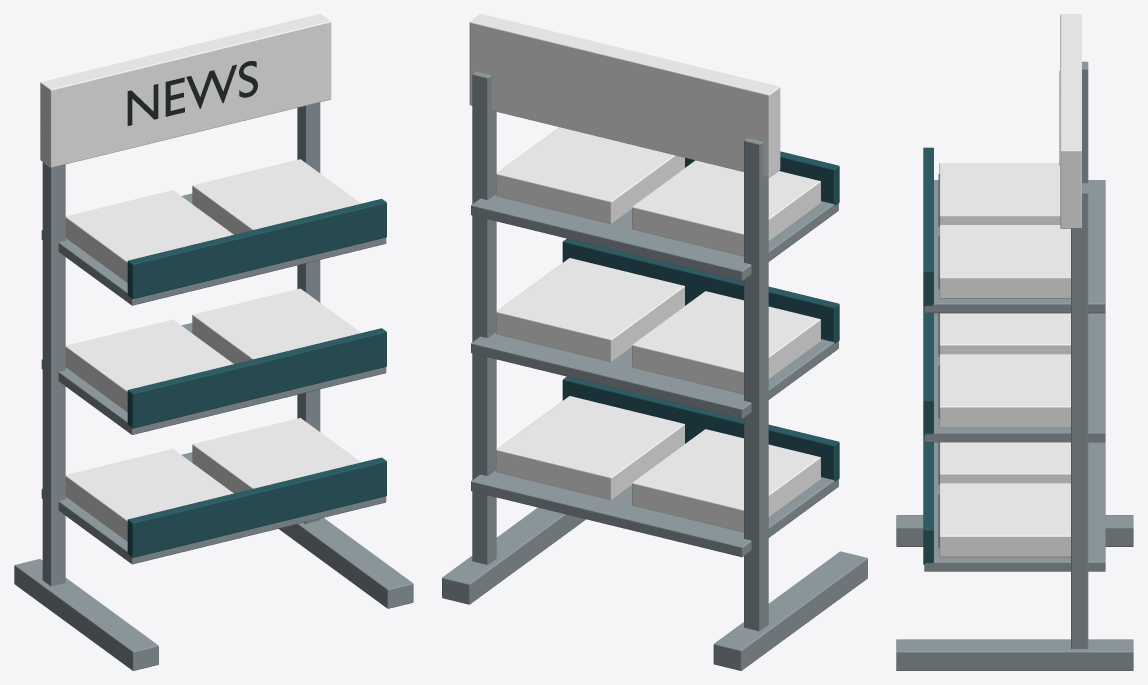
Rendered from local-newspaper-stand.glb.
3 renders of one model, left to right at view 1: azimuth 30°, elevation 25°; view 2: azimuth 150°, elevation 25°; view 3: azimuth 270°, elevation 25°, orthographic. The views are drawn at different scales.
Visible parts, largest first — view 1: Masthead, Front_Stop.001, Front_Stop, Front_Stop.002, Side_Post, Newspaper_Stack, Newspaper_Stack.002, Newspaper_Stack.004, Newspaper_Stack.005, Newspaper_Stack.001, Newspaper_Stack.003, Foot (+6 smaller); view 2: Masthead, Newspaper_Stack.001, Newspaper_Stack.003, Side_Post, Newspaper_Stack.005, Newspaper_Stack.002, Newspaper_Stack, Side_Post.001, Newspaper_Stack.004, Shelf.002, Shelf.001, Shelf (+5 smaller); view 3: Newspaper_Stack.001, Newspaper_Stack.003, Newspaper_Stack.005, Side_Post.001, Newspaper_Stack.004, Foot.001, Newspaper_Stack, Newspaper_Stack.002, Shelf.002, Shelf.001, Shelf, Masthead (+5 smaller).
Part boxes in pixels (left/top/right/bottom): Masthead: left=40, top=14, right=331, bottom=167; Front_Stop.001: left=127, top=328, right=386, bottom=428; Front_Stop: left=127, top=457, right=386, bottom=557; Front_Stop.002: left=127, top=199, right=386, bottom=298; Side_Post: left=42, top=162, right=65, bottom=586; Newspaper_Stack: left=65, top=449, right=233, bottom=541; Newspaper_Stack.002: left=65, top=319, right=233, bottom=412; Newspaper_Stack.004: left=65, top=190, right=233, bottom=283; Newspaper_Stack.005: left=192, top=159, right=360, bottom=234; Newspaper_Stack.001: left=192, top=418, right=360, bottom=493; Newspaper_Stack.003: left=192, top=288, right=360, bottom=363; Foot: left=14, top=559, right=158, bottom=670; Masthead: left=469, top=14, right=780, bottom=177; Newspaper_Stack.001: left=496, top=396, right=684, bottom=500; Newspaper_Stack.003: left=496, top=258, right=684, bottom=362; Side_Post: left=744, top=138, right=768, bottom=631; Newspaper_Stack.005: left=496, top=127, right=684, bottom=224; Newspaper_Stack.002: left=632, top=291, right=820, bottom=394; Newspaper_Stack: left=632, top=429, right=820, bottom=532; Side_Post.001: left=472, top=71, right=496, bottom=564; Newspaper_Stack.004: left=632, top=160, right=820, bottom=256; Shelf.002: left=471, top=194, right=838, bottom=281; Shelf.001: left=471, top=332, right=838, bottom=419; Shelf: left=471, top=470, right=838, bottom=557; Newspaper_Stack.001: left=939, top=483, right=1070, bottom=557; Newspaper_Stack.003: left=939, top=354, right=1070, bottom=427; Newspaper_Stack.005: left=939, top=225, right=1070, bottom=298; Side_Post.001: left=1071, top=186, right=1088, bottom=648; Newspaper_Stack.004: left=939, top=163, right=1060, bottom=225; Foot.001: left=896, top=639, right=1133, bottom=670; Newspaper_Stack: left=939, top=442, right=1070, bottom=483; Newspaper_Stack.002: left=939, top=313, right=1070, bottom=354; Shelf.002: left=924, top=180, right=1105, bottom=313; Shelf.001: left=924, top=313, right=1105, bottom=442; Shelf: left=924, top=442, right=1105, bottom=571; Masthead: left=1060, top=14, right=1081, bottom=228.
Size of the model in its own units: 0.75 by 1.33 by 0.55.
